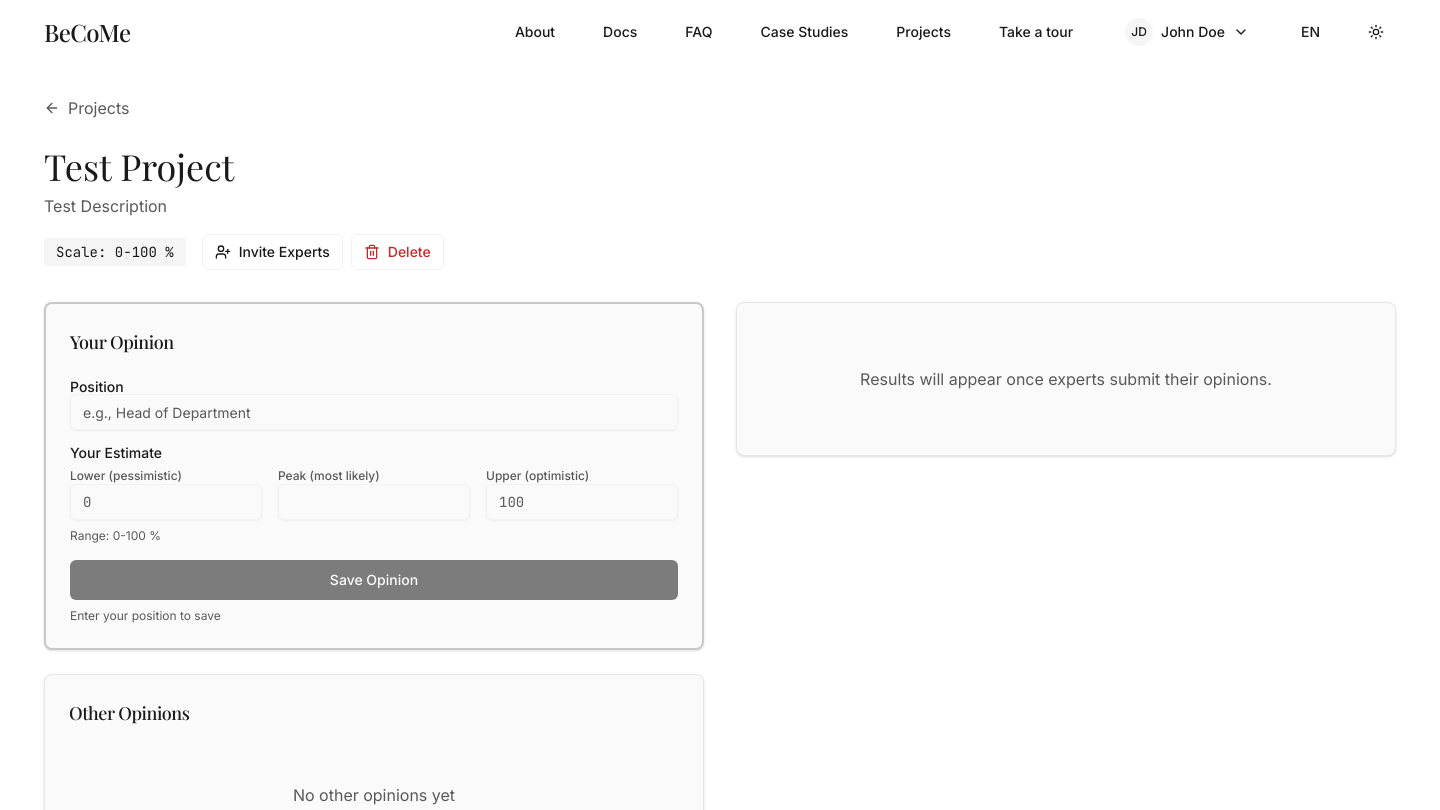
Test: ProjectDetail - Delete Project › opens delete confirmation modal
Click the button "Delete" at (397, 252), box [351,234,444,270]
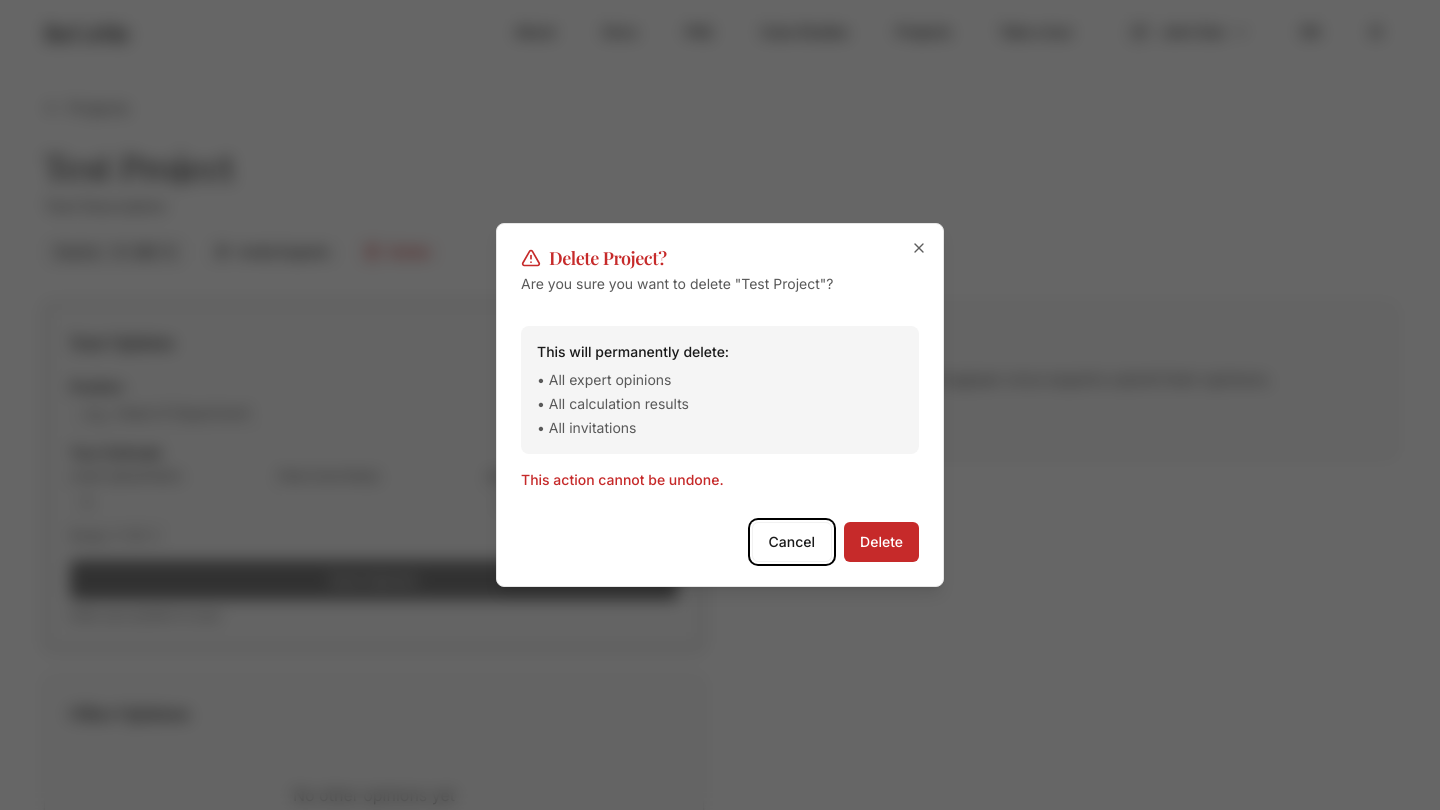
Check: the heading "Delete Project?" is shown, box [521,246,667,270]
